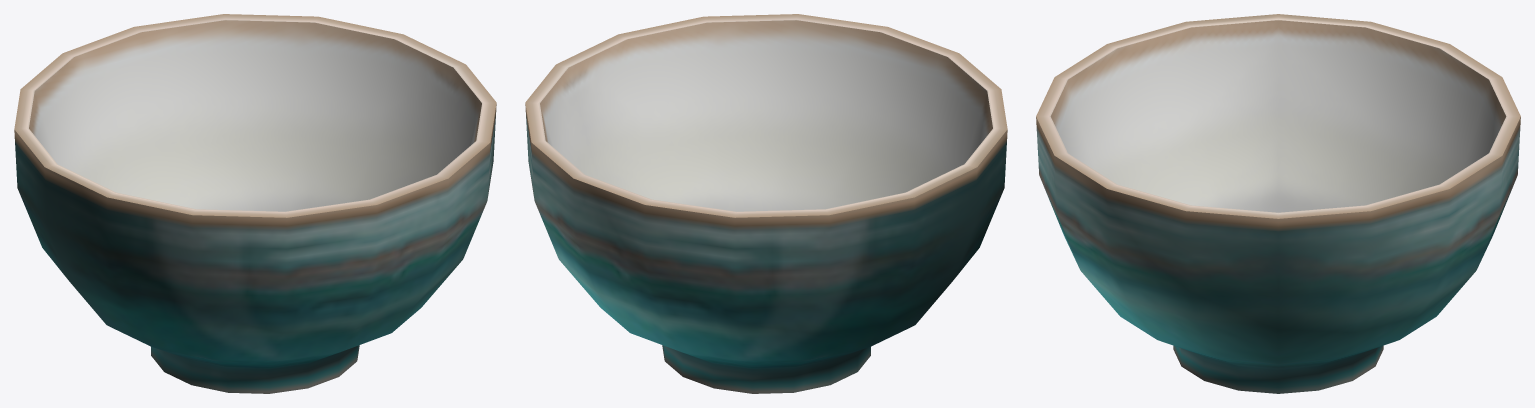
Rendered from WuZhengDiaoChaKe_01_wan_01_uv2.FBX.
3 renders of one model, left to right at view 1: azimuth 30°, elevation 25°; view 2: azimuth 150°, elevation 25°; view 3: azimuth 270°, elevation 25°, orthographic.
Visible parts, largest first — view 1: pCylinder9; view 2: pCylinder9; view 3: pCylinder9.
Boxes of the visible parts, <box> form: pCylinder9: <box>14,14,496,393</box>; pCylinder9: <box>525,14,1007,393</box>; pCylinder9: <box>1036,14,1520,393</box>.
Bounding box in the file's own units: 110 × 58.44 × 110.
